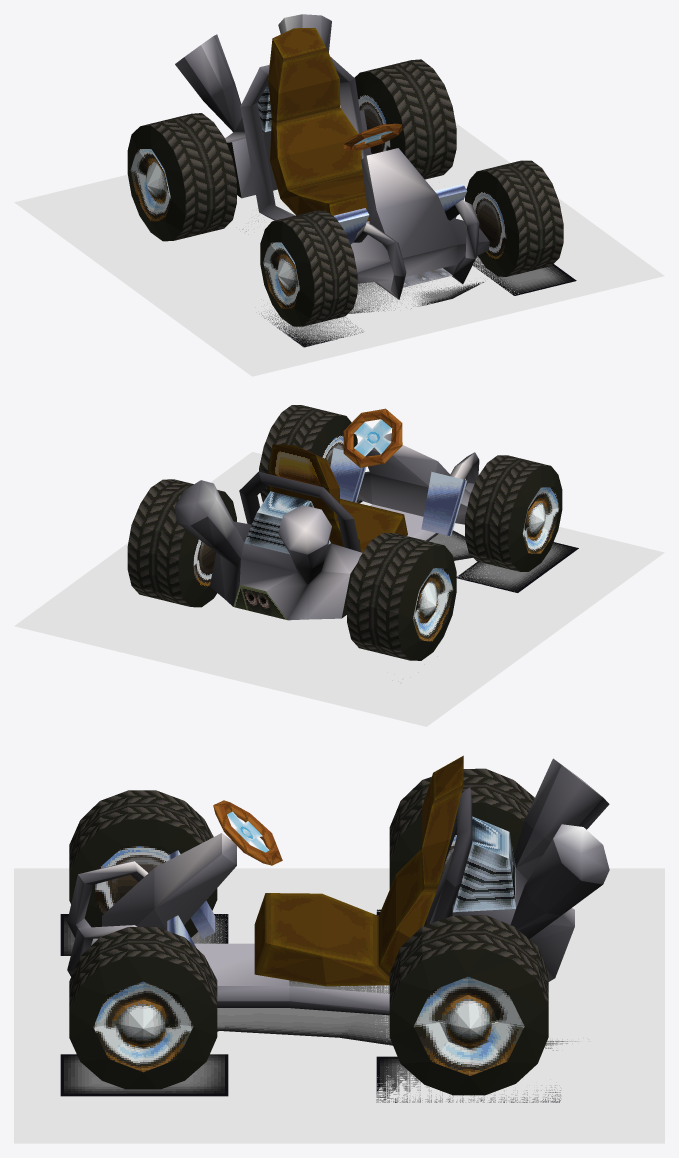
The model's file is hi_kart_template.fbx.
3 views of the same model, one above another, from view 1: azimuth 30°, elevation 25°; view 2: azimuth 150°, elevation 25°; view 3: azimuth 270°, elevation 25° (orthographic). The views are drawn at different scales.
Visible parts, largest first — view 1: hi_kart_template; view 2: hi_kart_template; view 3: hi_kart_template.
Part boxes in pixels (x1=…): hi_kart_template: x1=14, y1=14, x2=664, y2=376; hi_kart_template: x1=14, y1=405, x2=664, y2=726; hi_kart_template: x1=14, y1=755, x2=664, y2=1143.
Bounding box in the file's own units: 315 × 130 × 315.
Materials: 19 (18 with a texture image).
